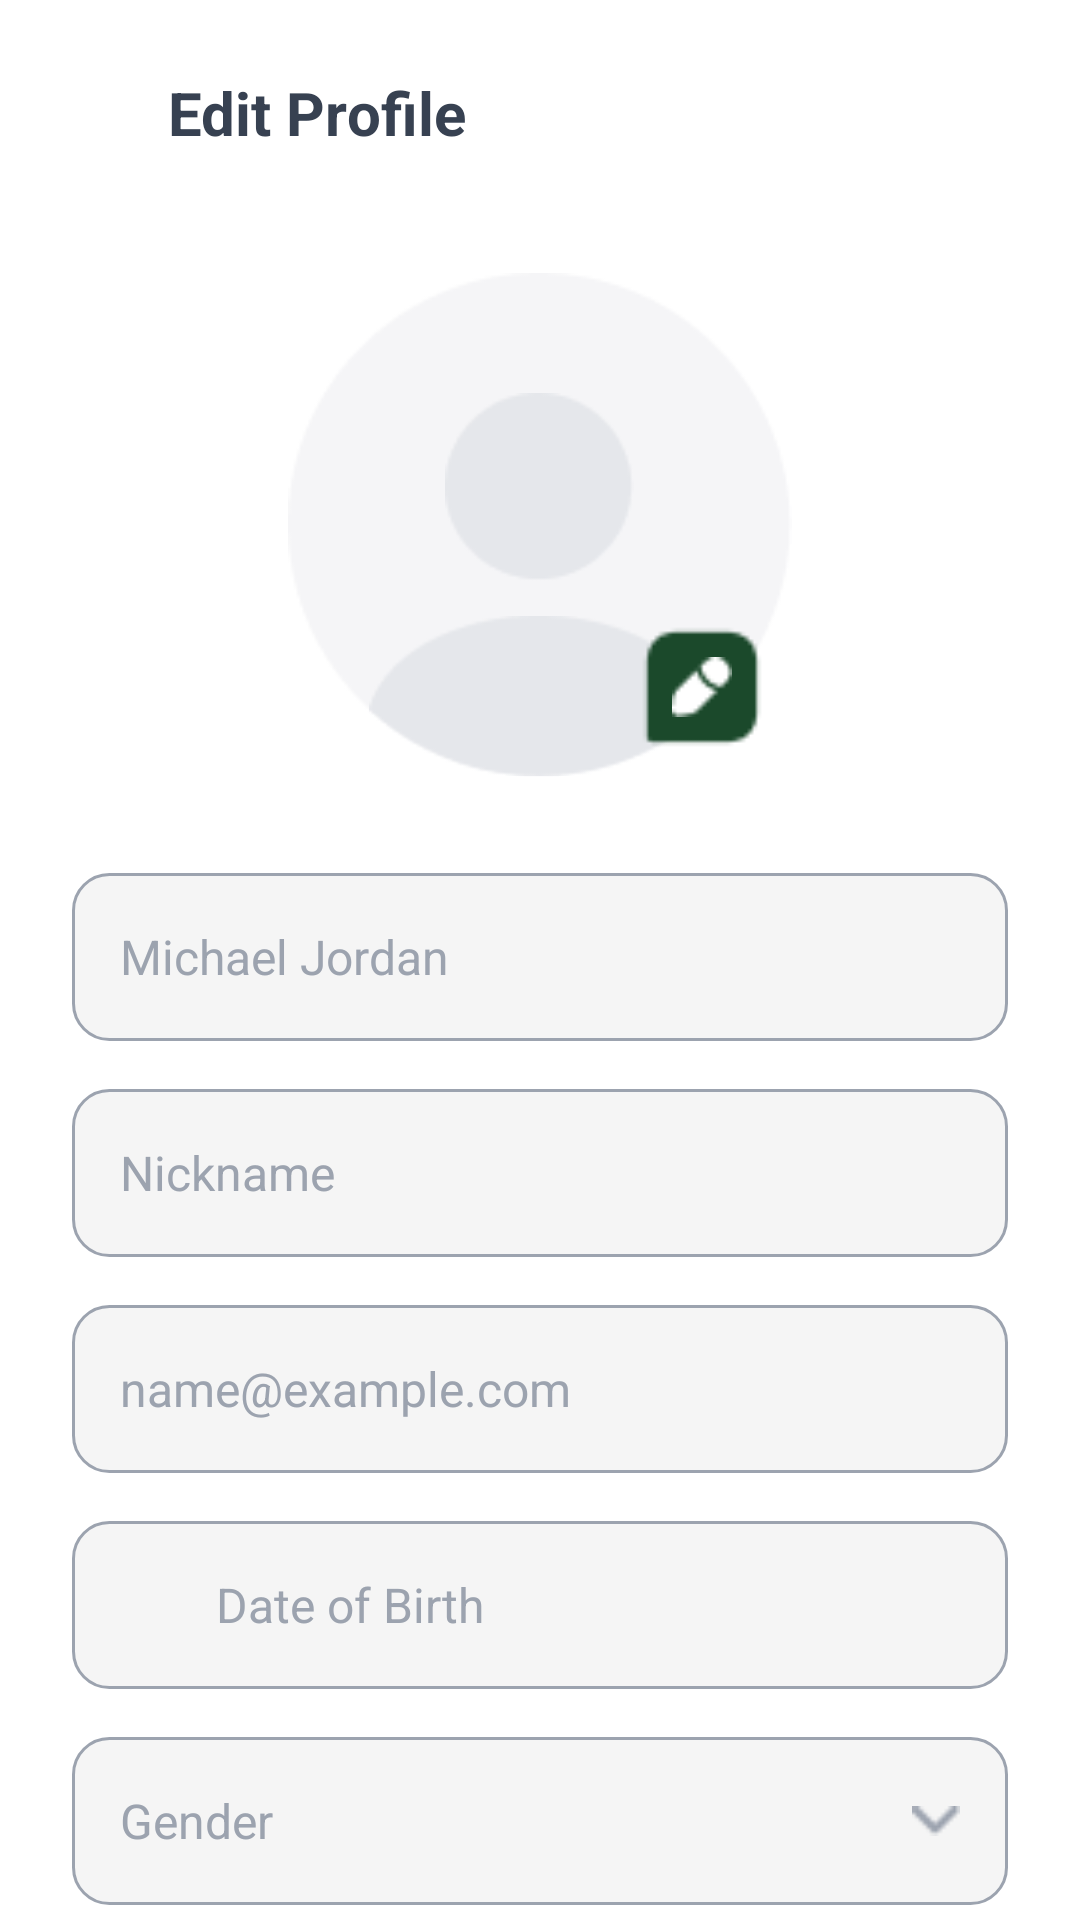

Where to tap for icons on this 1080px x 1920px app screen, as (x,y):
dropdown: (936,1819)
